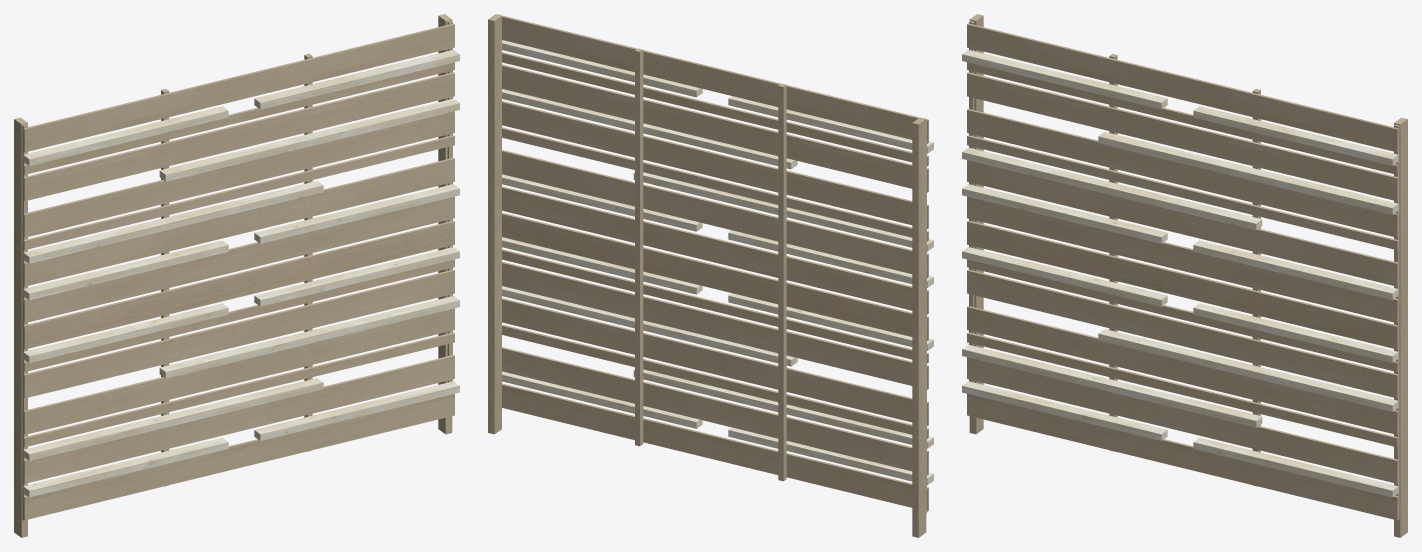
Rendered from EAdesignunitrandom_h1835-w1999_springoak.fbx.
The picture shows the model from 3 angles, left to right: view 1: azimuth 30°, elevation 25°; view 2: azimuth 150°, elevation 25°; view 3: azimuth 330°, elevation 25°; orthographic projection.
Visible parts, largest first — view 1: EAdesignunitrandom_h1835-w1999_springoak; view 2: EAdesignunitrandom_h1835-w1999_springoak; view 3: EAdesignunitrandom_h1835-w1999_springoak.
Boxes of the visible parts, <box> form: EAdesignunitrandom_h1835-w1999_springoak: <box>14,14,459,537</box>; EAdesignunitrandom_h1835-w1999_springoak: <box>488,14,933,537</box>; EAdesignunitrandom_h1835-w1999_springoak: <box>962,14,1407,537</box>.
Size of the model in its own units: 200 by 183 by 12.2.
Materials: 2 (2 with a texture image).
